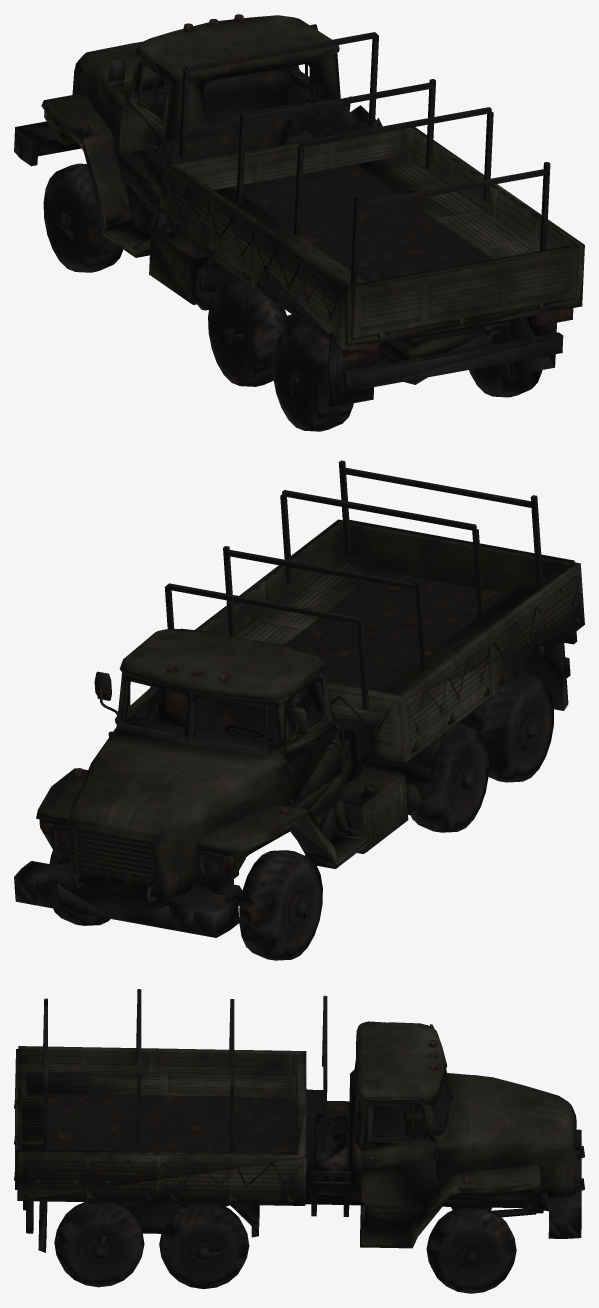
Rendered from truk-wreck.glb.
3 views of the same model, one above another, from view 1: azimuth 30°, elevation 25°; view 2: azimuth 150°, elevation 25°; view 3: azimuth 270°, elevation 25° (orthographic). The views are drawn at different scales.
Visible parts, largest first — view 1: hull; view 2: hull; view 3: hull.
Boxes of the visible parts, x1=… form: hull: x1=14, y1=14, x2=584, y2=431; hull: x1=14, y1=460, x2=584, y2=960; hull: x1=14, y1=989, x2=584, y2=1293.
Size of the model in its own units: 3.01 by 3.29 by 7.36.
1 material, 1 textured.
